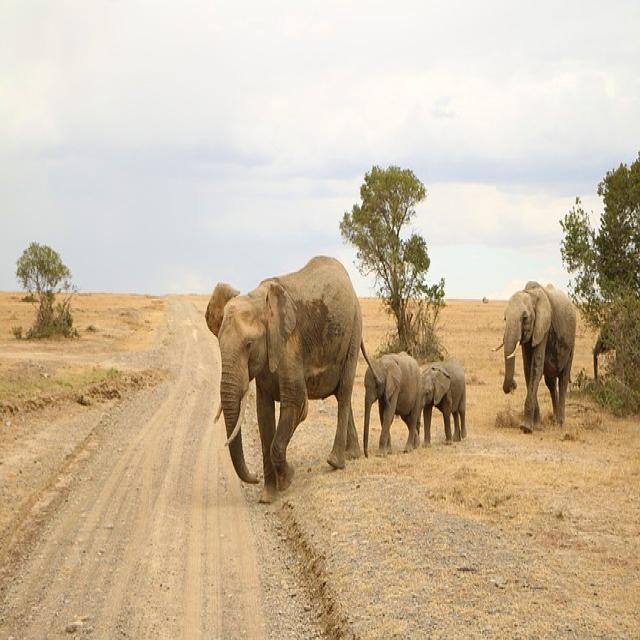FIL: (204, 255, 359, 503), (500, 276, 578, 432), (361, 348, 421, 458), (421, 359, 468, 448)
